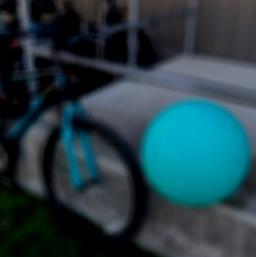algae: (137, 96, 252, 206)
